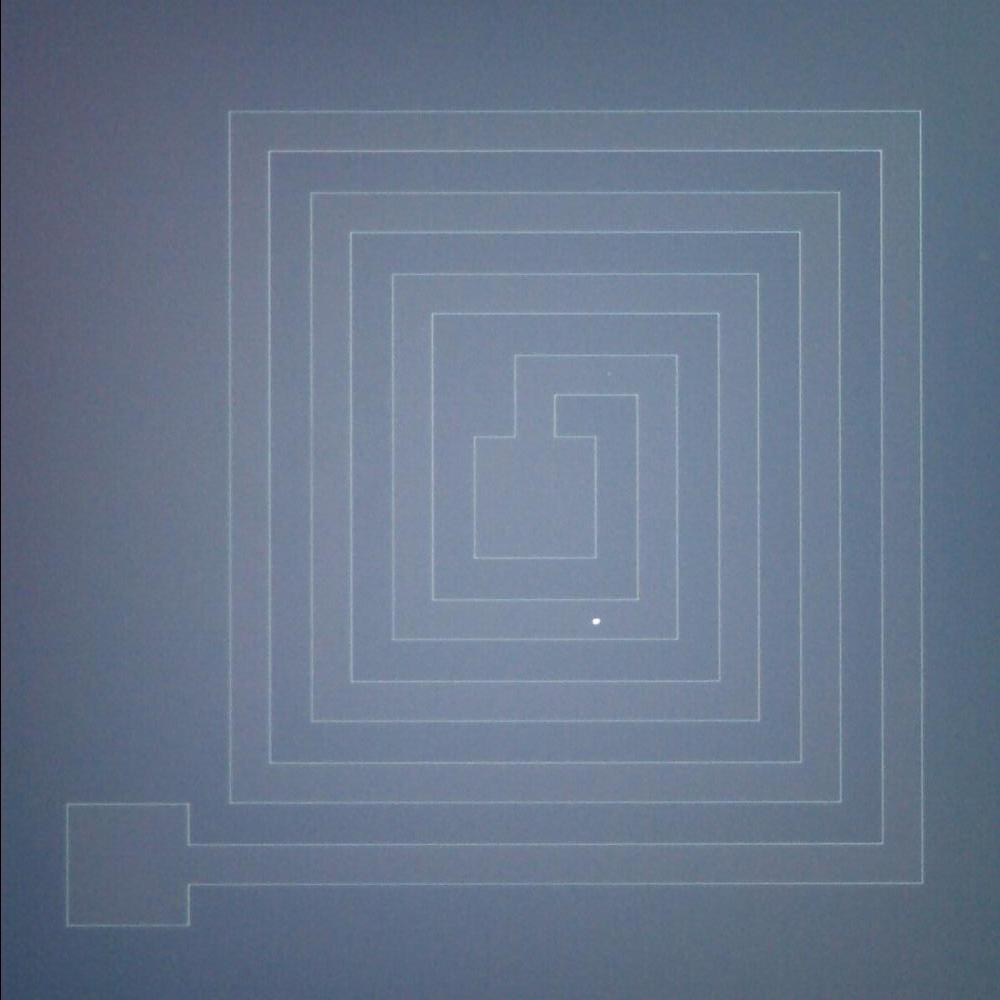dot: (578, 604, 612, 636)
